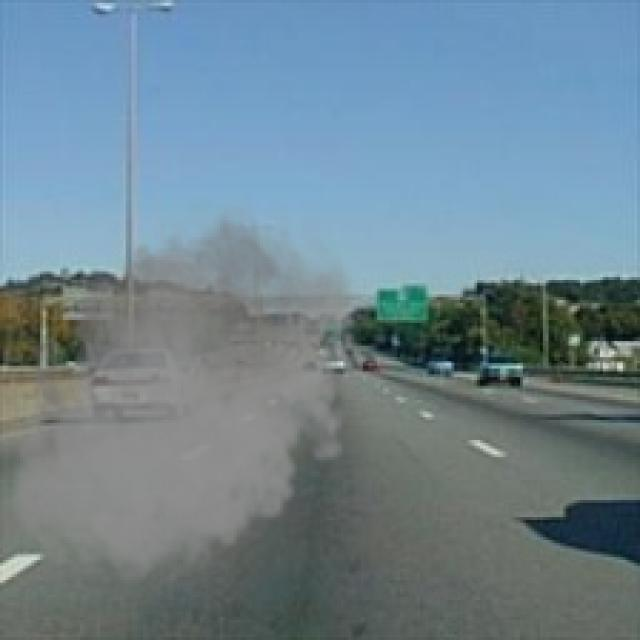Smoke: (6, 192, 368, 594)
